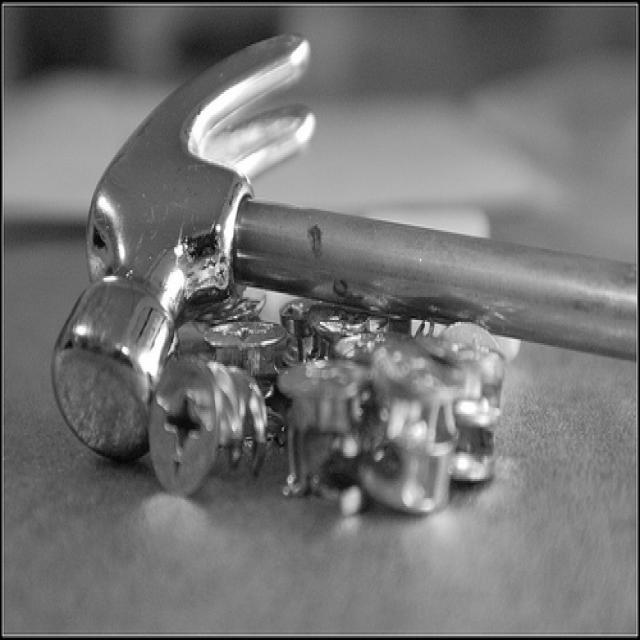hammer: (41, 16, 640, 472)
